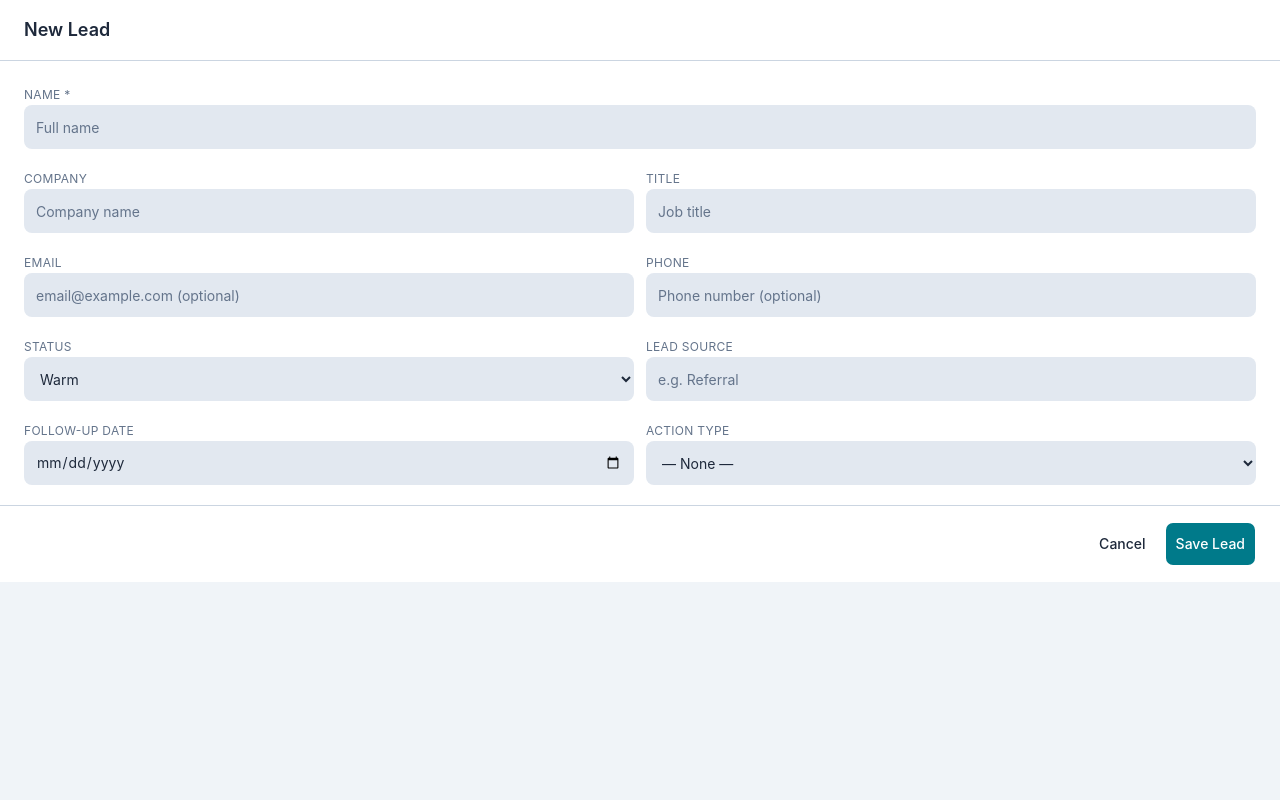
Test: LeadForm › surfaces a generic error when createLead rejects in transit (EH-01)
This screenshot has width=1280, height=800.
Type "Alice" into the field with placeholder "Full name" at [640, 127], box x1=24 y1=105 x2=1256 y2=149
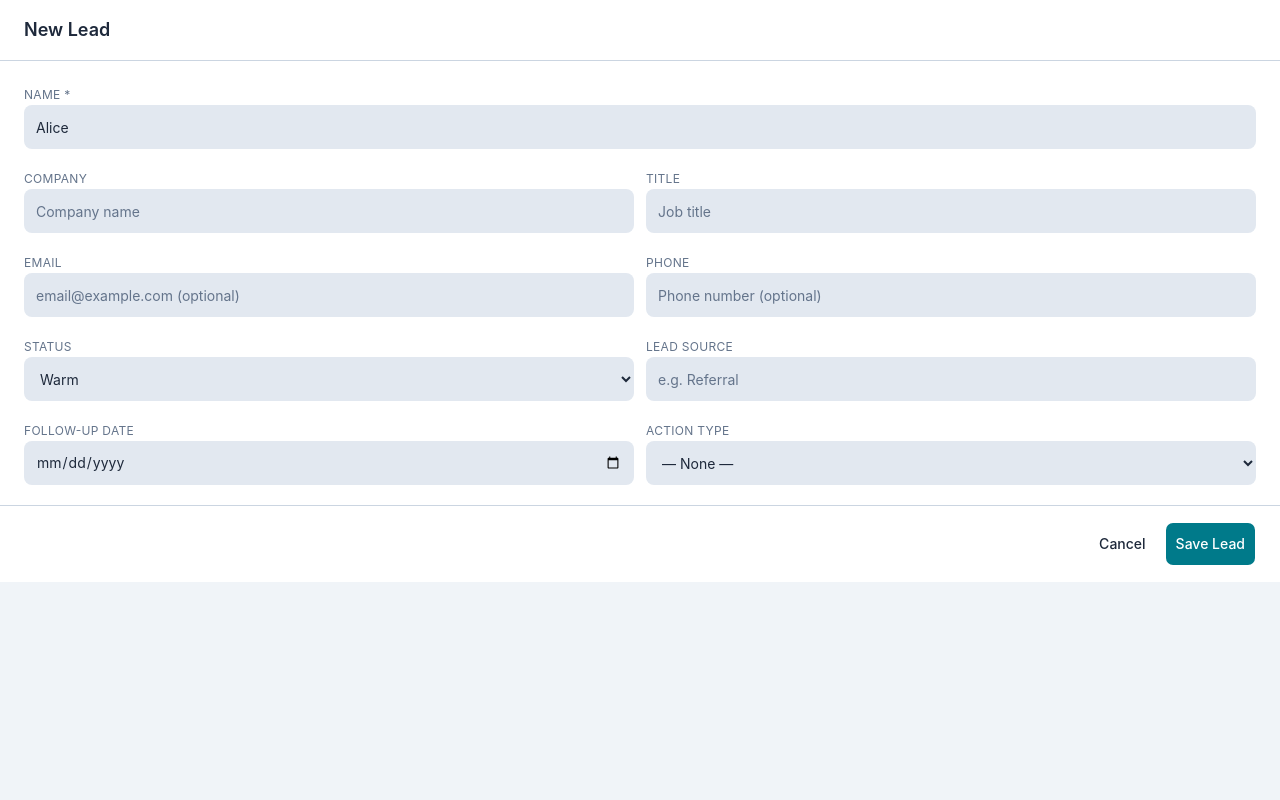
Click the button "Save Lead" at [1210, 544], box x1=1165 y1=522 x2=1256 y2=566
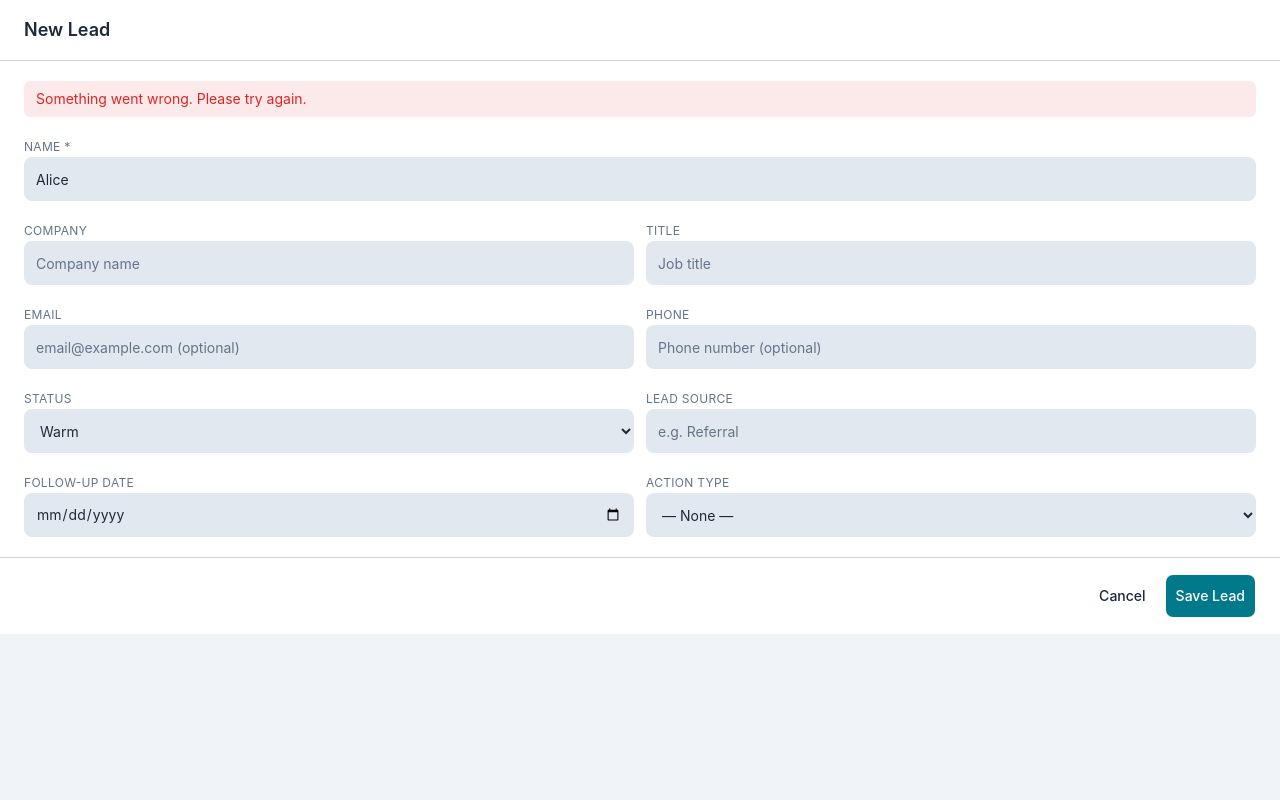
Expected: the button "Save Lead" is enabled, x1=1165 y1=574 x2=1256 y2=618
Expected: the message shows "Something went wrong", x1=36 y1=90 x2=307 y2=107
